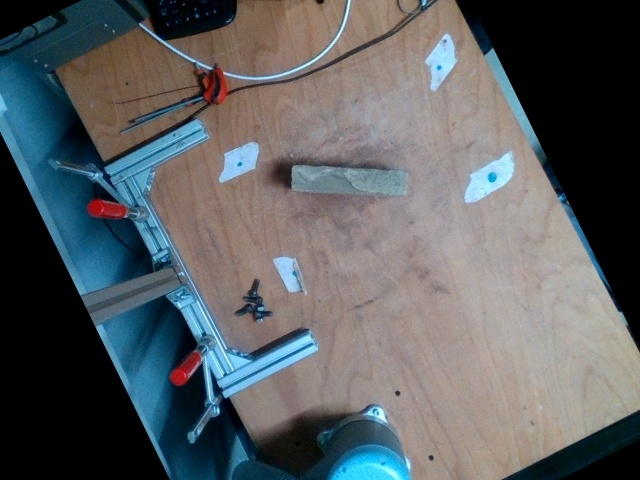brick-side: (290, 166, 407, 192)
